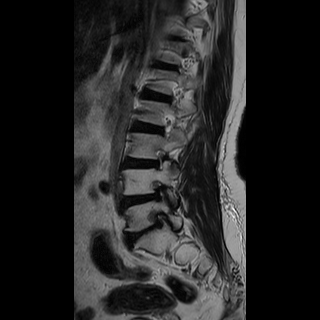RFS0: (148, 144, 172, 176)
